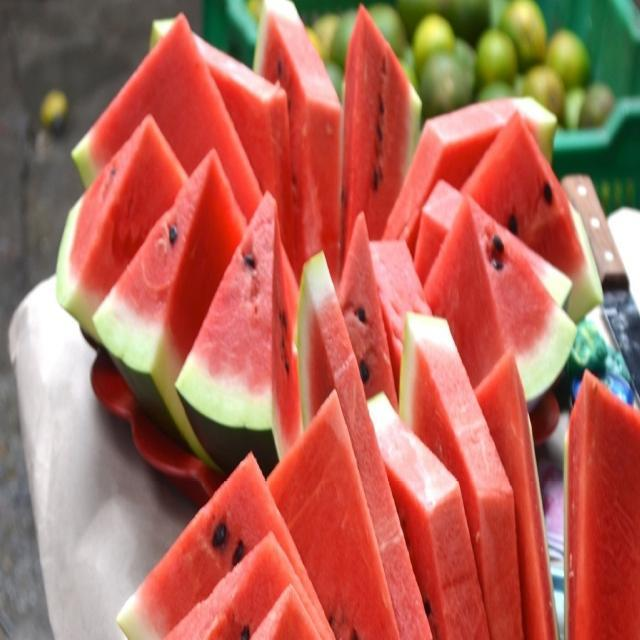Watermelon: (52, 0, 640, 639), (180, 200, 288, 440)
